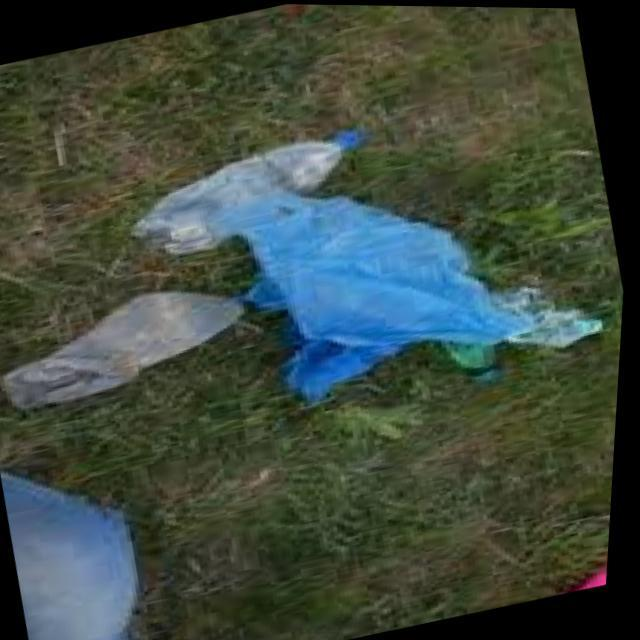leaf: (108, 100, 432, 277), (0, 258, 267, 436), (440, 324, 520, 399), (553, 506, 617, 592)
metal: (194, 144, 630, 466)
